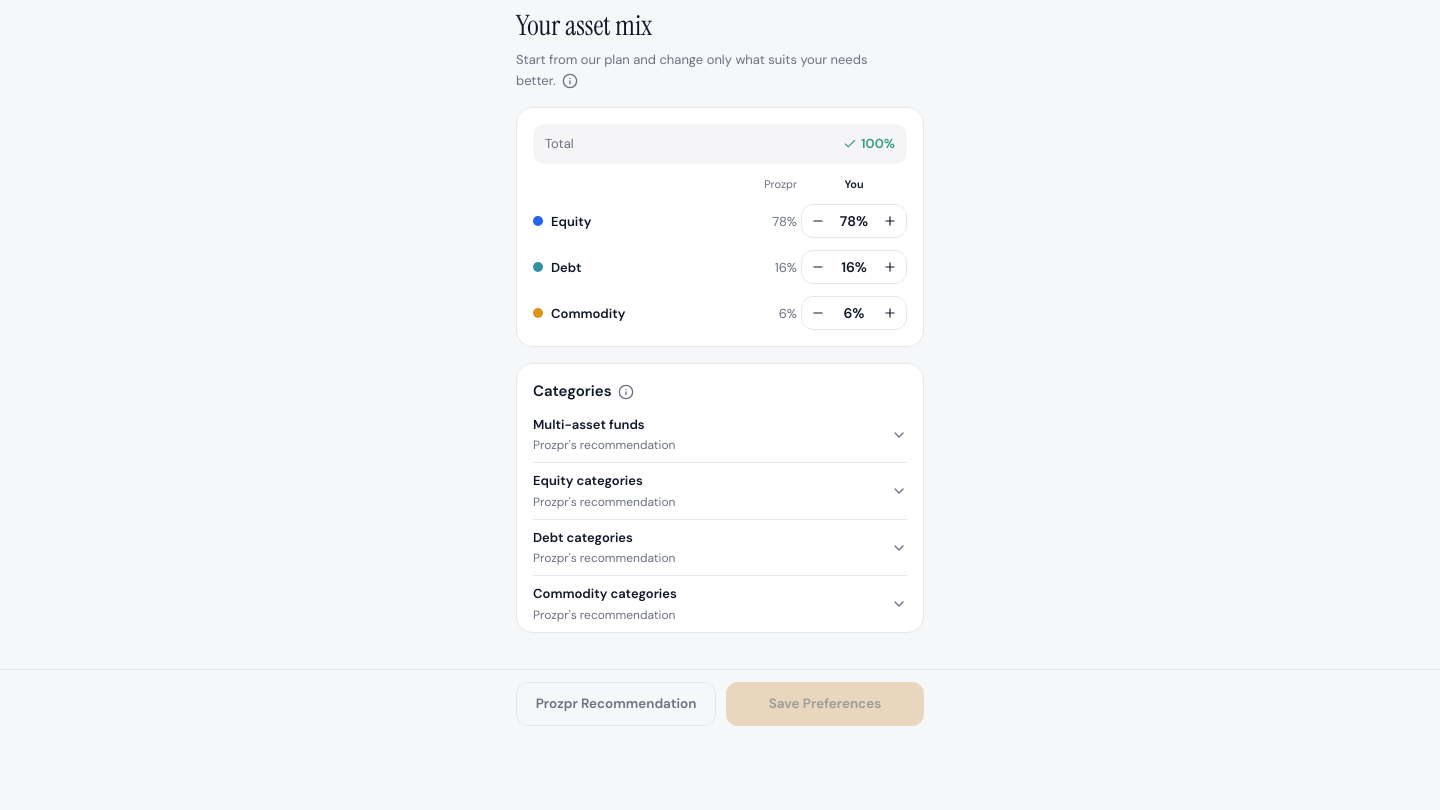
InvestPreferences — the mix › holds Save until the asset mix adds up to 100%, and says by how much
The image size is (1440, 810).
What coordinates should you click on to do the following:
click the button named "Increase Equity"
I would click on:
 (890, 221)
Its box is [874,205,906,237].
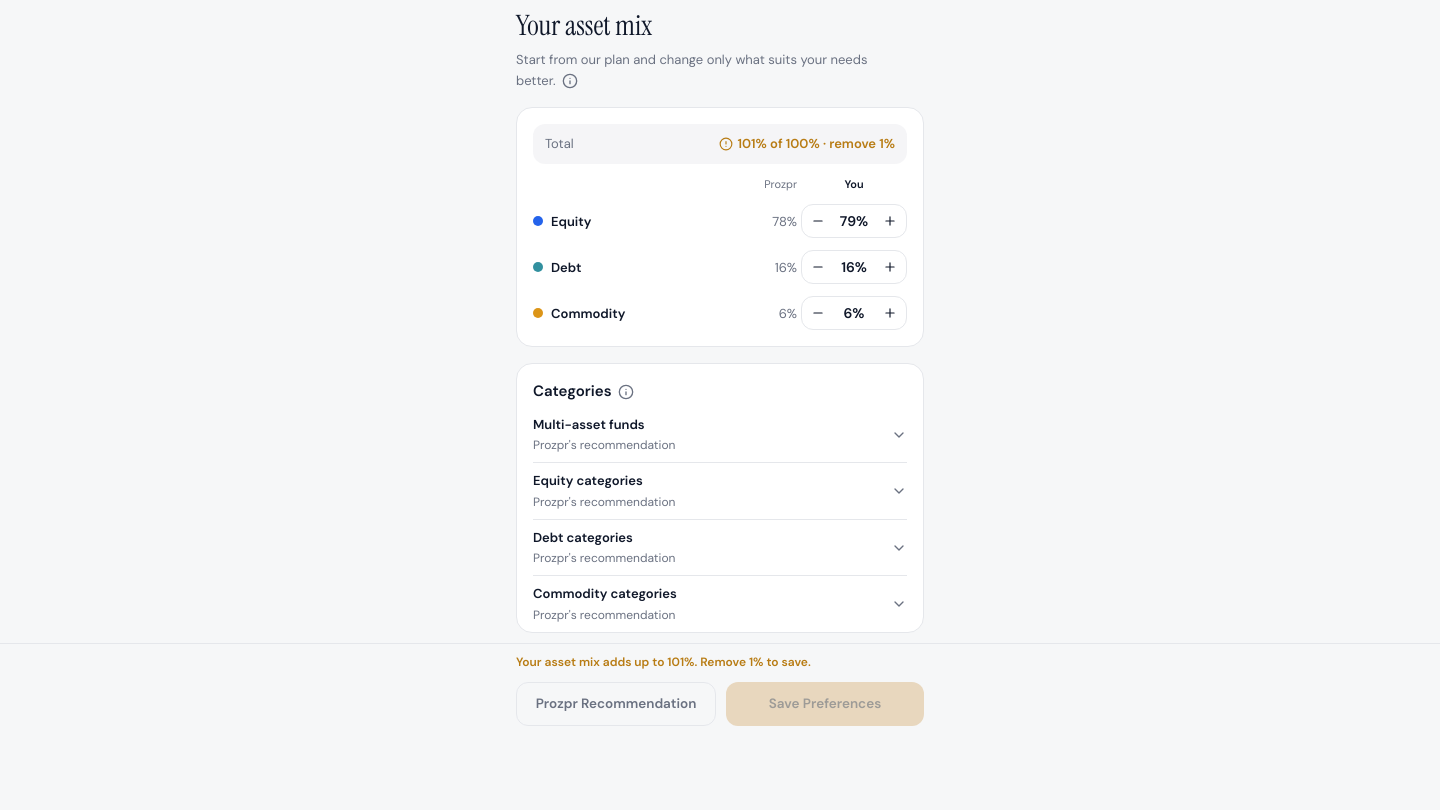
Expected: the button "Save Preferences" is disabled, [726,682,924,726]
Now the message with test id "mix-total" shows "101% of 100% · remove 1%", box [737,135,895,152]
What coordinates should you click on to do the following:
click the button named "Decrease Debt"
I would click on:
 (818, 267)
Its box is [802,251,834,283].
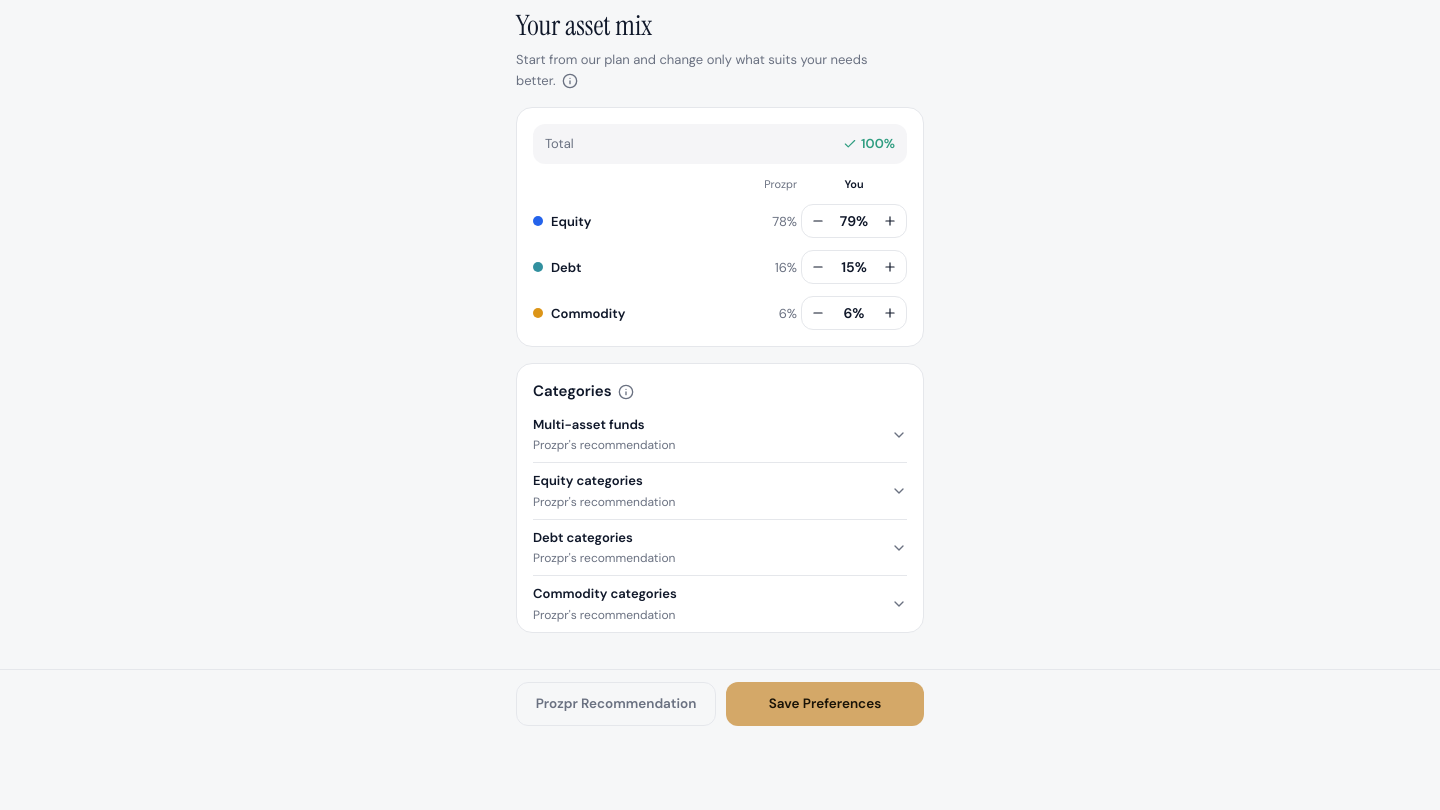
Now the button "Save Preferences" is enabled, box [726,682,924,726]
